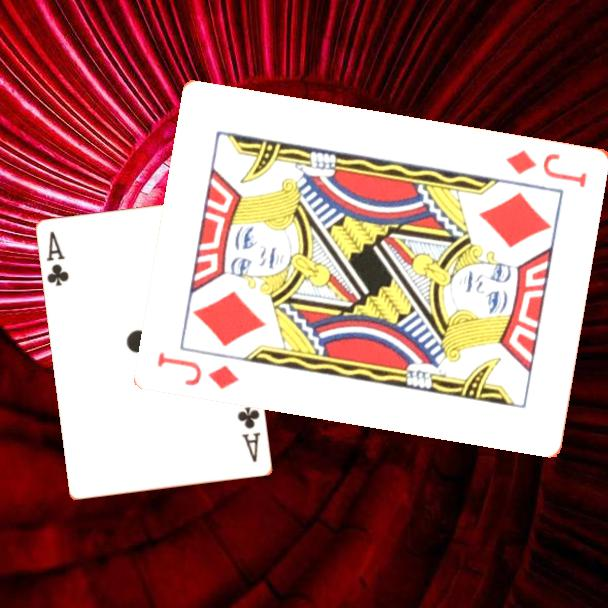c01: (234, 403, 264, 465), (43, 228, 72, 289)
d11: (154, 347, 243, 392), (503, 146, 591, 190)
